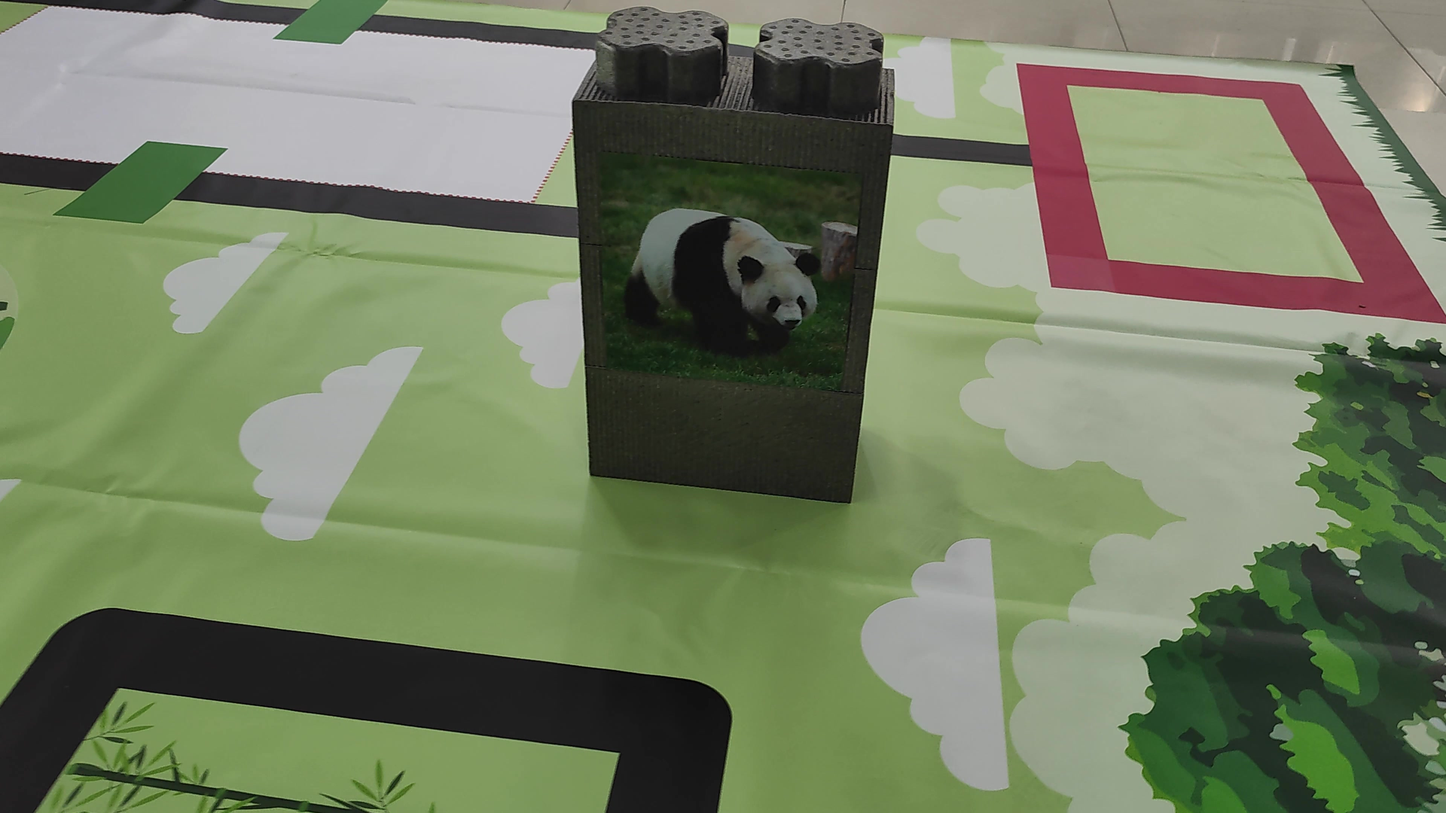panda: (614, 188, 840, 350)
